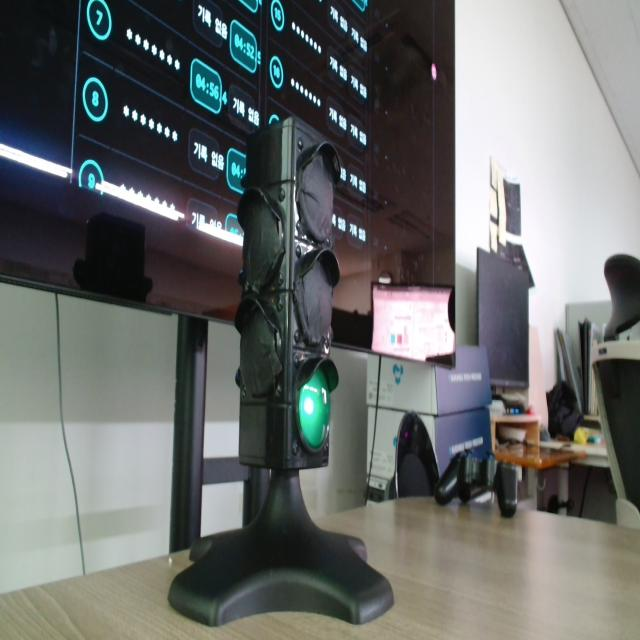green_light: (299, 370, 330, 450)
